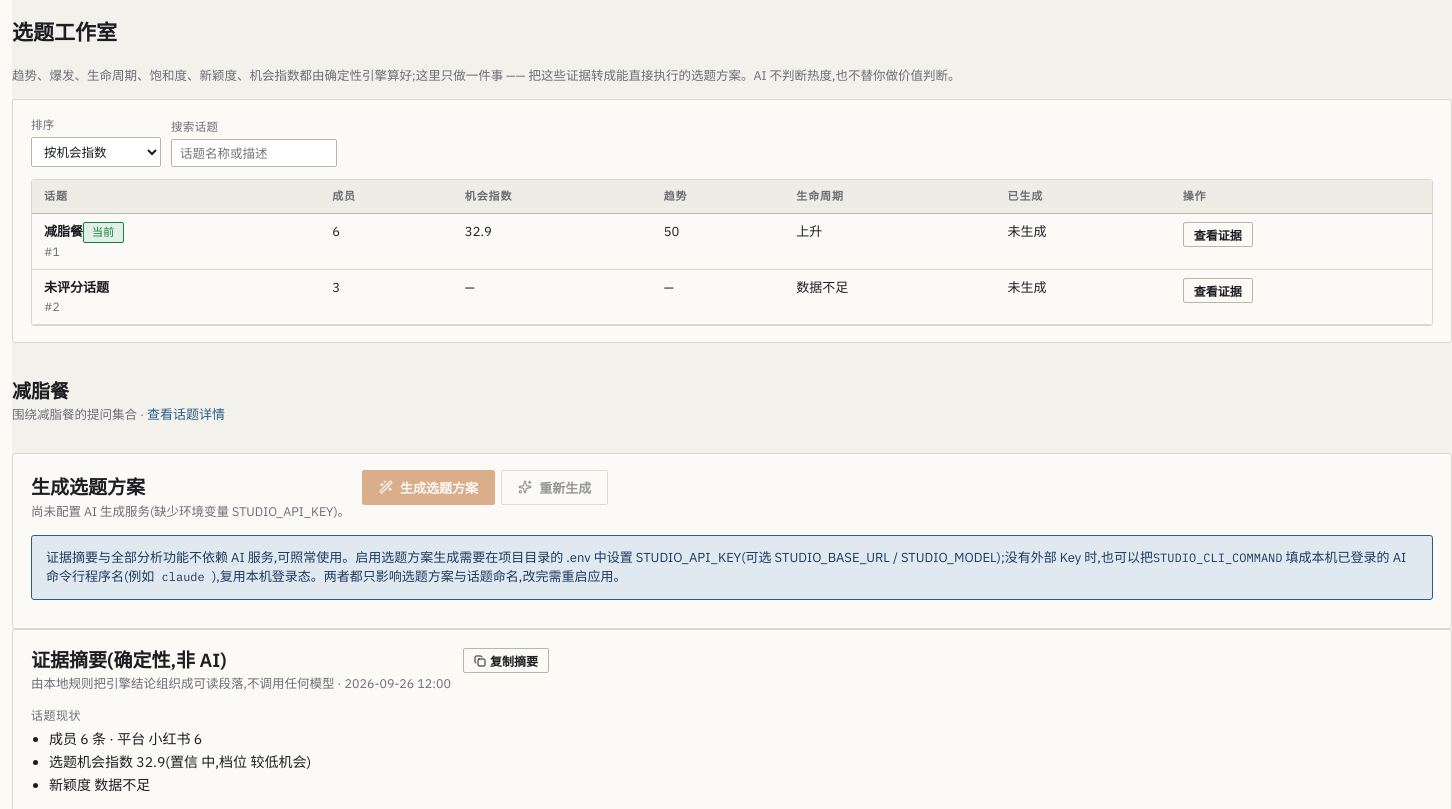
Scenario: 选题工作室:复制按钮必须给出结果反馈(§67 死按钮) › 剪贴板不可用时说明失败并提示手动选择,而不是静默无反应
Step 1. Click the button "复制摘要" → (506, 661), box [463,648,549,673]
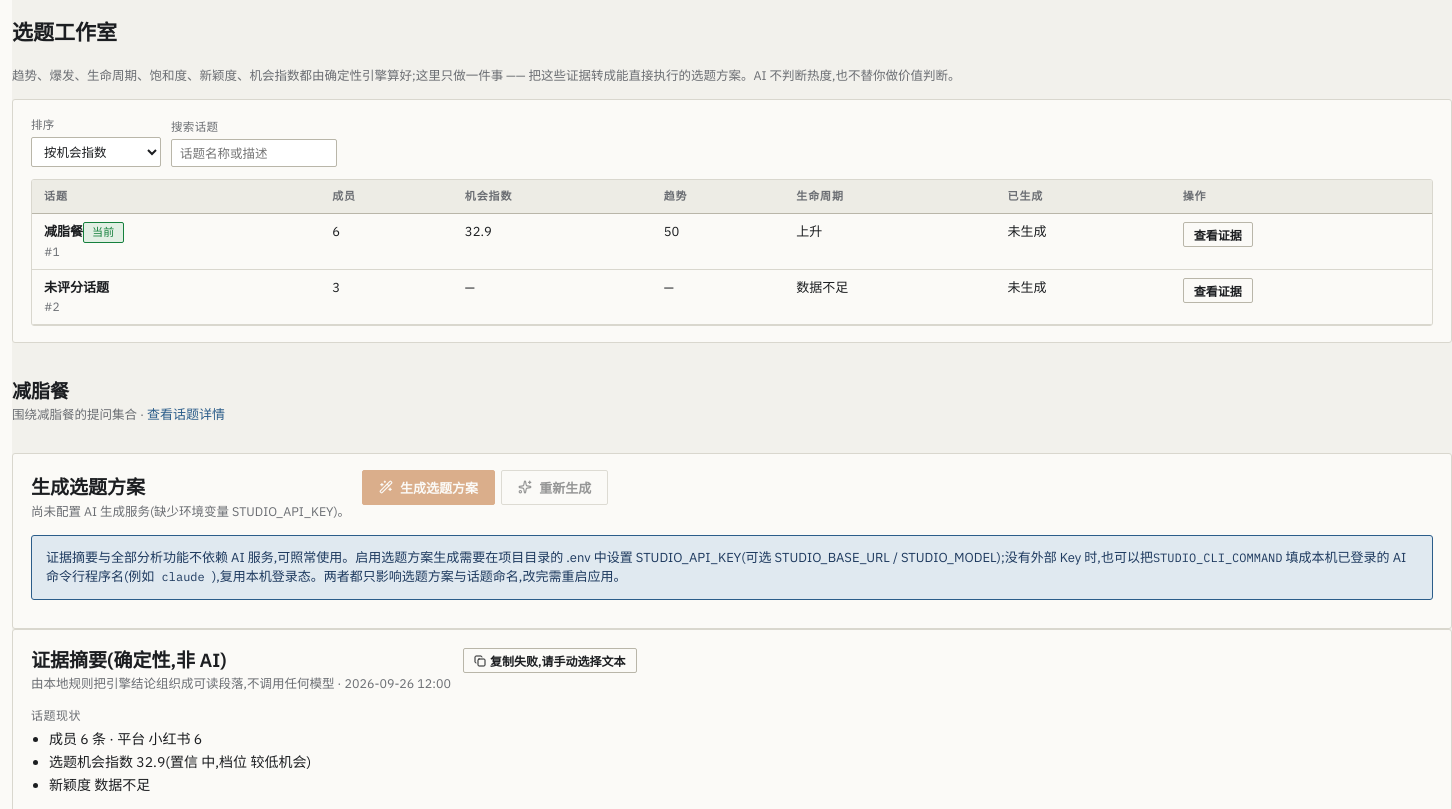
Check: the text "复制失败,请手动选择文本" is shown, box [463,648,637,673]
